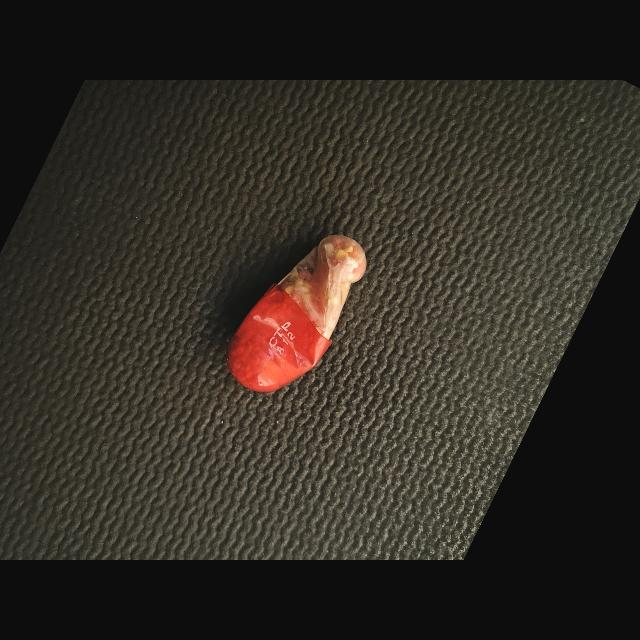Defective Capsule: (228, 235, 366, 392)
